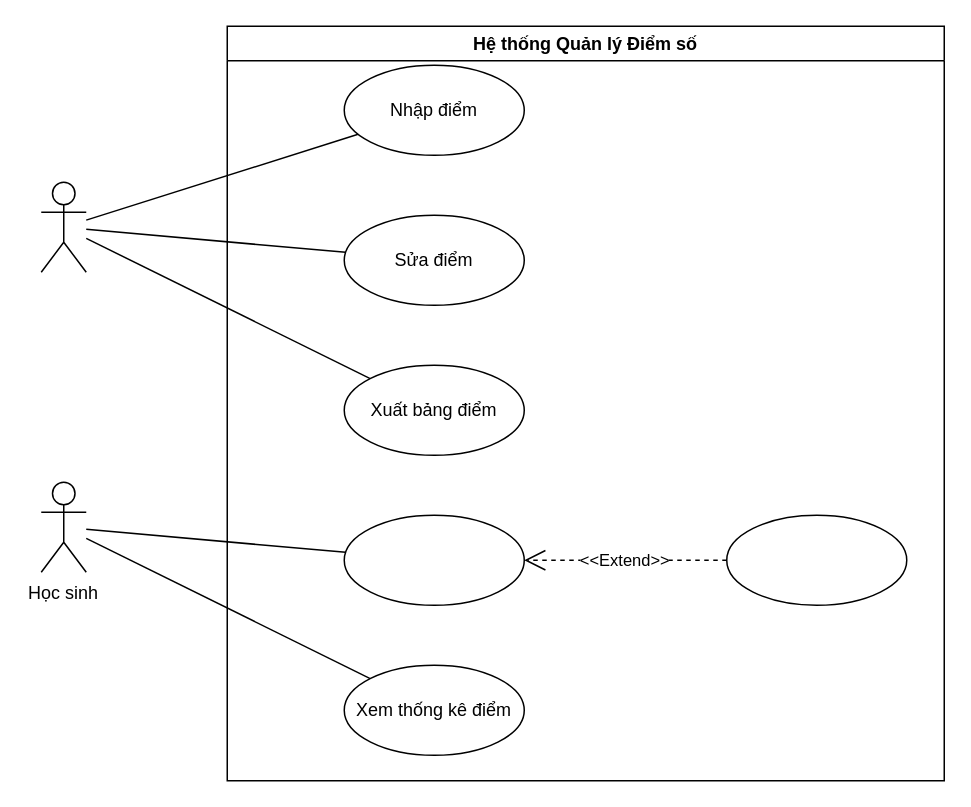
The diagram is 971 pixels wide and 807 high, and some of its shapes have lost their labels. The centre of each missing label's shape, as x and y in pixels:
"Giáo viên" belongs at point (63, 226).
"Gửi phản hồi" belongs at point (816, 559).
"Xem điểm" belongs at point (433, 559).
